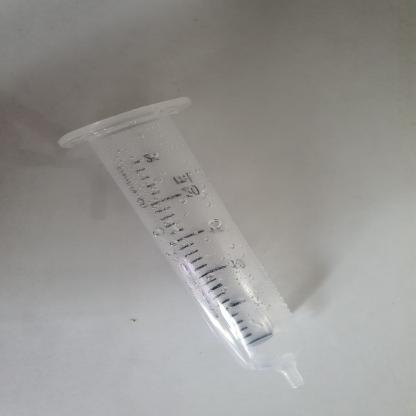wet: (36, 91, 330, 399)
